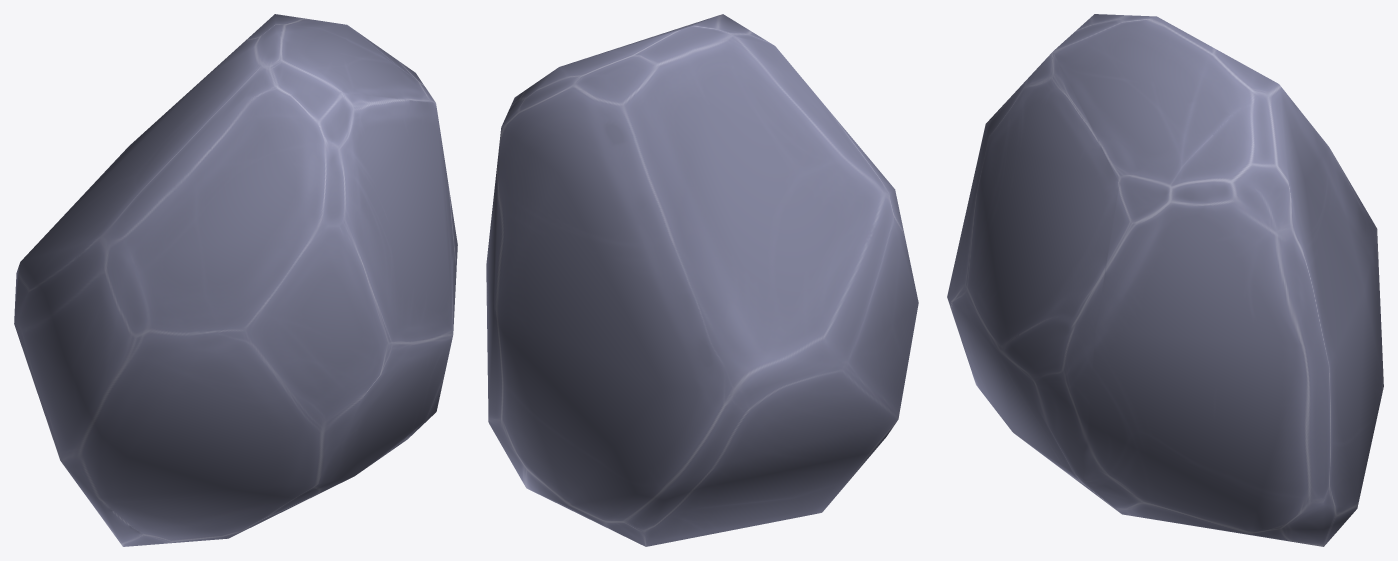
The model's file is Stone_4_Variation_1.fbx.
3 renders of one model, left to right at view 1: azimuth 30°, elevation 25°; view 2: azimuth 150°, elevation 25°; view 3: azimuth 270°, elevation 25°, orthographic. The views are drawn at different scales.
Visible parts, largest first — view 1: Stone_4_Variation_1; view 2: Stone_4_Variation_1; view 3: Stone_4_Variation_1.
Part boxes in pixels (x1,y1,x2,y2): Stone_4_Variation_1: [14, 14, 457, 546]; Stone_4_Variation_1: [486, 14, 918, 546]; Stone_4_Variation_1: [947, 14, 1383, 546].
Size of the model in its own units: 161 by 196 by 152.
